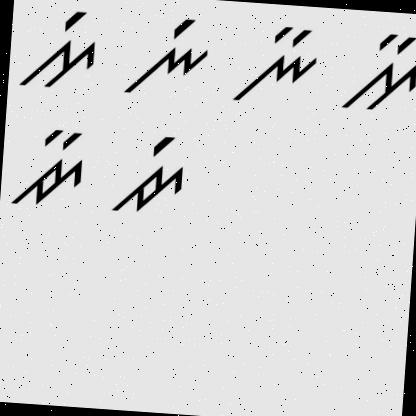jan: (10, 124, 91, 212)
jang: (110, 129, 192, 218)
nyan: (234, 19, 324, 108)
nyang: (122, 14, 212, 101)
san: (341, 30, 416, 116)
sang: (18, 5, 106, 94)
